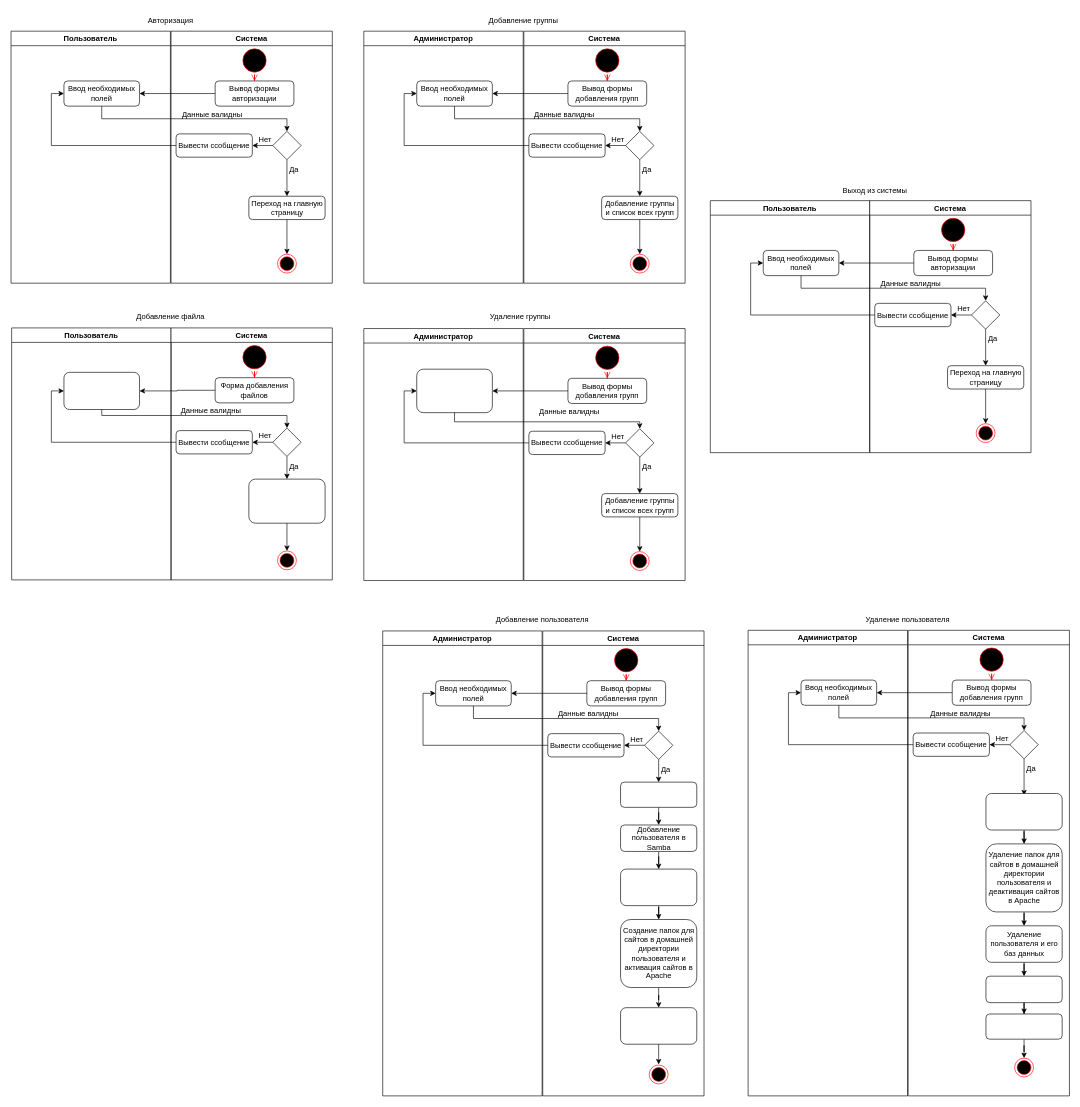
Some shapes in this 1080 by 1107 pixel diagram are drawn without their labels. The box of each missing label's shape, as (x1, y1, x2, y2) in pixels:
Выбор поддерживаемых форматов файлов и групп: (63, 372, 140, 410)
Выбор пользователя: (985, 793, 1062, 830)
Вывод пользователей и группы, к которой он относится: (620, 1007, 697, 1044)
Добавление пользователя в Ubuntu Server: (620, 782, 697, 807)
Добавление пользователя в базу данных и их создание для него: (620, 868, 697, 906)
Добавление файла к группе, список добавленных файлов по группам: (248, 478, 325, 523)
Удаление пользователей относящихся к данной группе: (416, 369, 492, 413)
Удаление пользователя в Samba: (985, 976, 1062, 1003)
Удаление пользователя в Ubuntu Server: (985, 1013, 1062, 1039)
